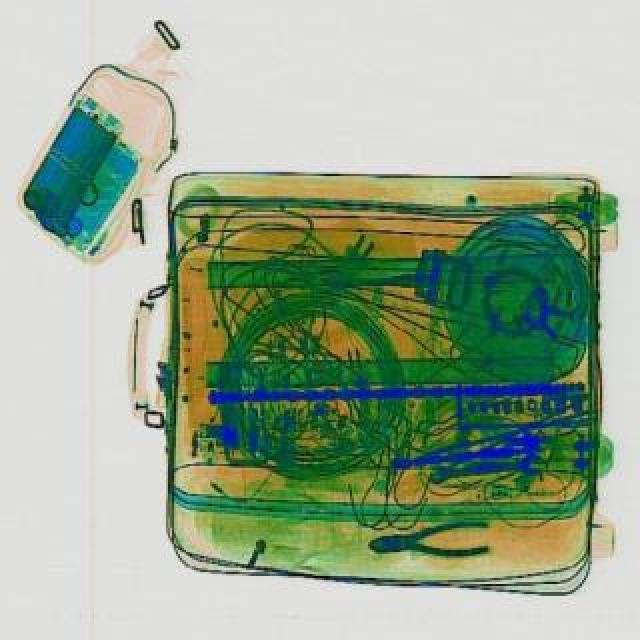scissors: (428, 458, 540, 490)
wrench: (366, 522, 490, 568)
